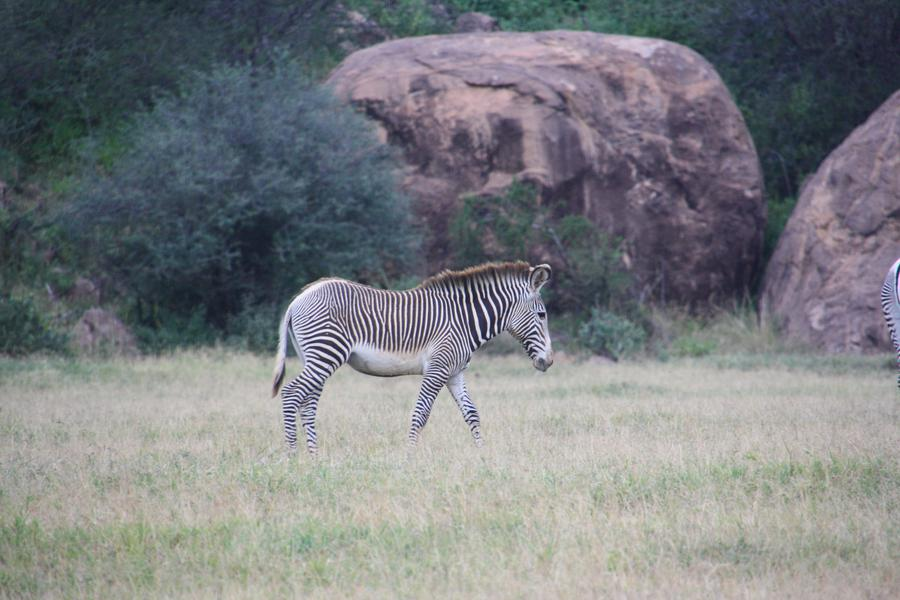zebra_grevys: (289, 272, 462, 371)
